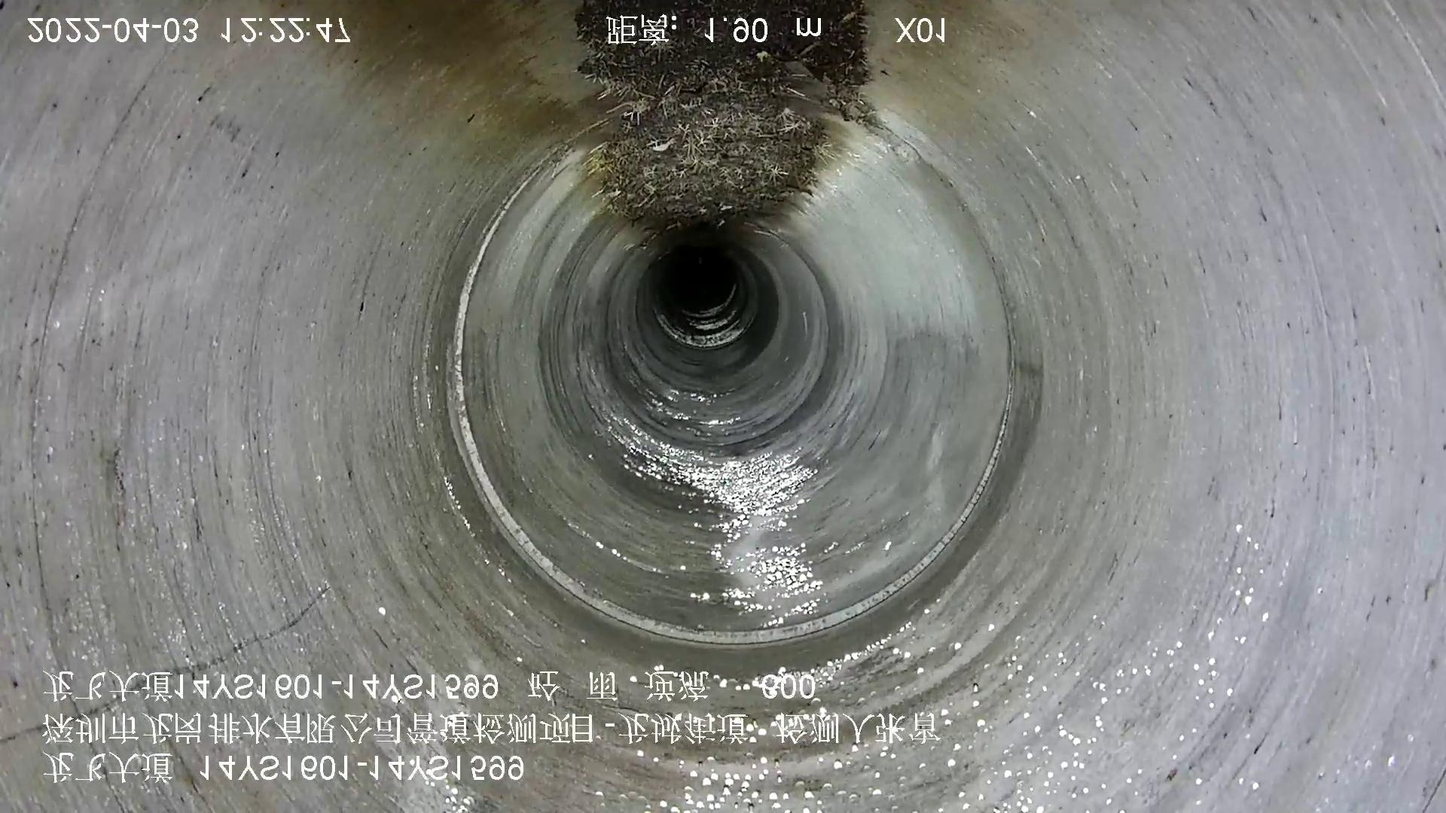CJ: (575, 1, 872, 236)
CKTJ: (448, 176, 1020, 647)
